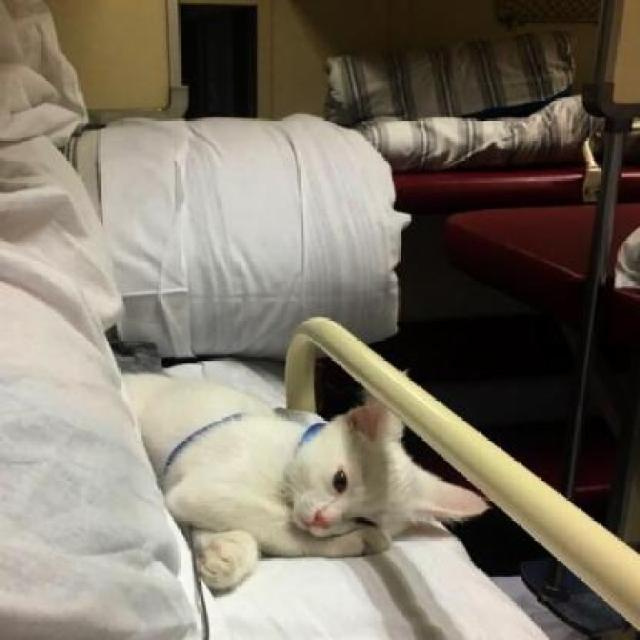cat: (119, 374, 467, 591)
